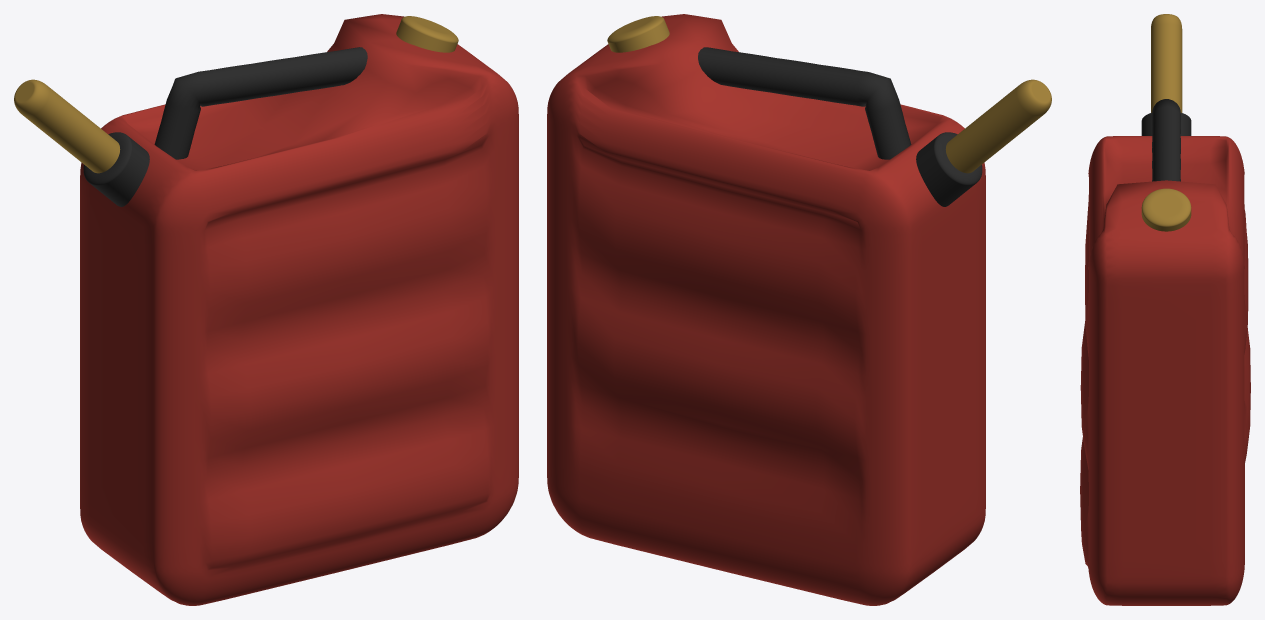
File: bm-pickup-gasoline.gltf
3 renders of one model, left to right at view 1: azimuth 30°, elevation 25°; view 2: azimuth 150°, elevation 25°; view 3: azimuth 270°, elevation 25°, orthographic. The views are drawn at different scales.
Parts seen in each view (by area): view 1: body, handle, yellow, black, cap; view 2: body, handle, yellow, black, cap; view 3: body, yellow, handle, cap, black.
Part boxes in pixels (left/top/right/bottom): body: left=80, top=14, right=518, bottom=605; handle: left=154, top=47, right=367, bottom=159; yellow: left=14, top=79, right=120, bottom=173; black: left=83, top=132, right=149, bottom=206; cap: left=396, top=16, right=458, bottom=52; body: left=547, top=14, right=985, bottom=605; handle: left=698, top=47, right=911, bottom=159; yellow: left=945, top=79, right=1051, bottom=173; black: left=916, top=132, right=982, bottom=206; cap: left=607, top=16, right=669, bottom=52; body: left=1080, top=136, right=1250, bottom=605; yellow: left=1151, top=14, right=1182, bottom=112; handle: left=1152, top=99, right=1180, bottom=181; cap: left=1141, top=188, right=1191, bottom=231; black: left=1141, top=112, right=1191, bottom=135.
Size of the model in its own units: 3.03 by 3.29 by 1.19.
